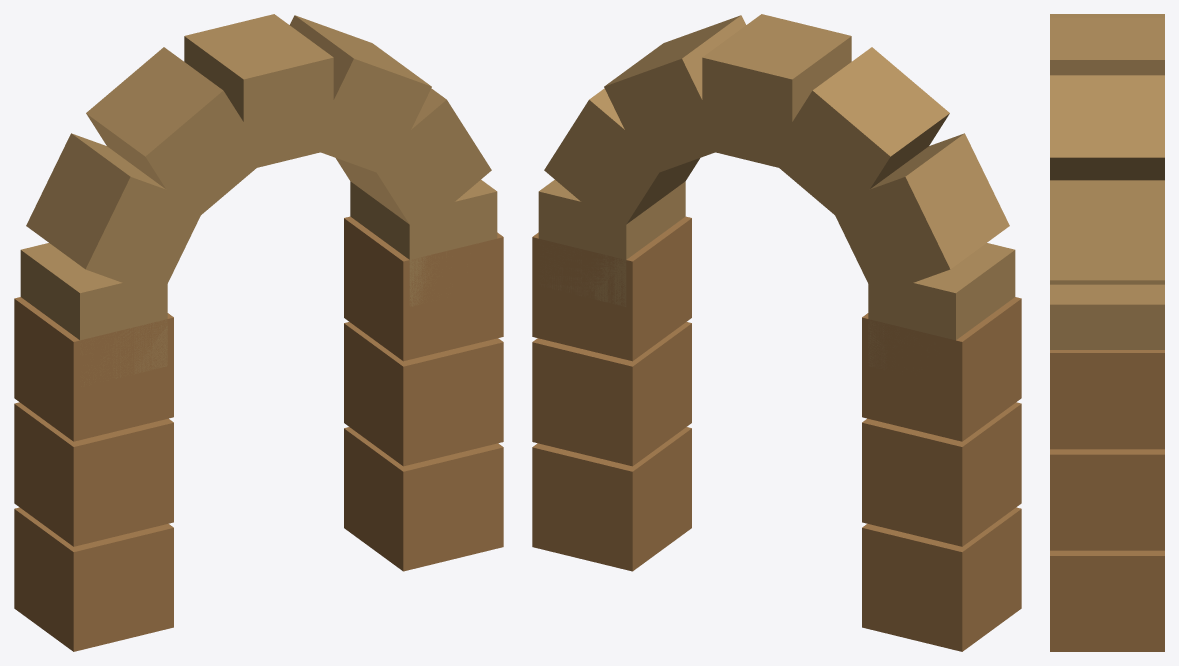
3 views of the same model, side by side, from view 1: azimuth 30°, elevation 25°; view 2: azimuth 150°, elevation 25°; view 3: azimuth 270°, elevation 25° (orthographic). The views are drawn at different scales.
Visible parts, largest first — view 1: P08_简化砂岩门; view 2: P08_简化砂岩门; view 3: P08_简化砂岩门.
Part boxes in pixels (bbox=[...]): P08_简化砂岩门: bbox=[14, 14, 503, 651]; P08_简化砂岩门: bbox=[532, 14, 1021, 651]; P08_简化砂岩门: bbox=[1050, 14, 1164, 651].
Bounding box in the file's own units: 1.67 × 1.97 × 0.4.
